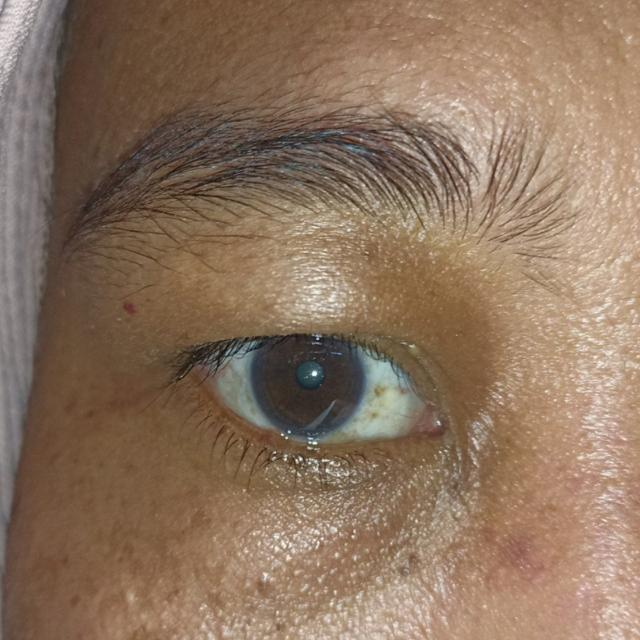Cataract: (252, 309, 364, 444)
